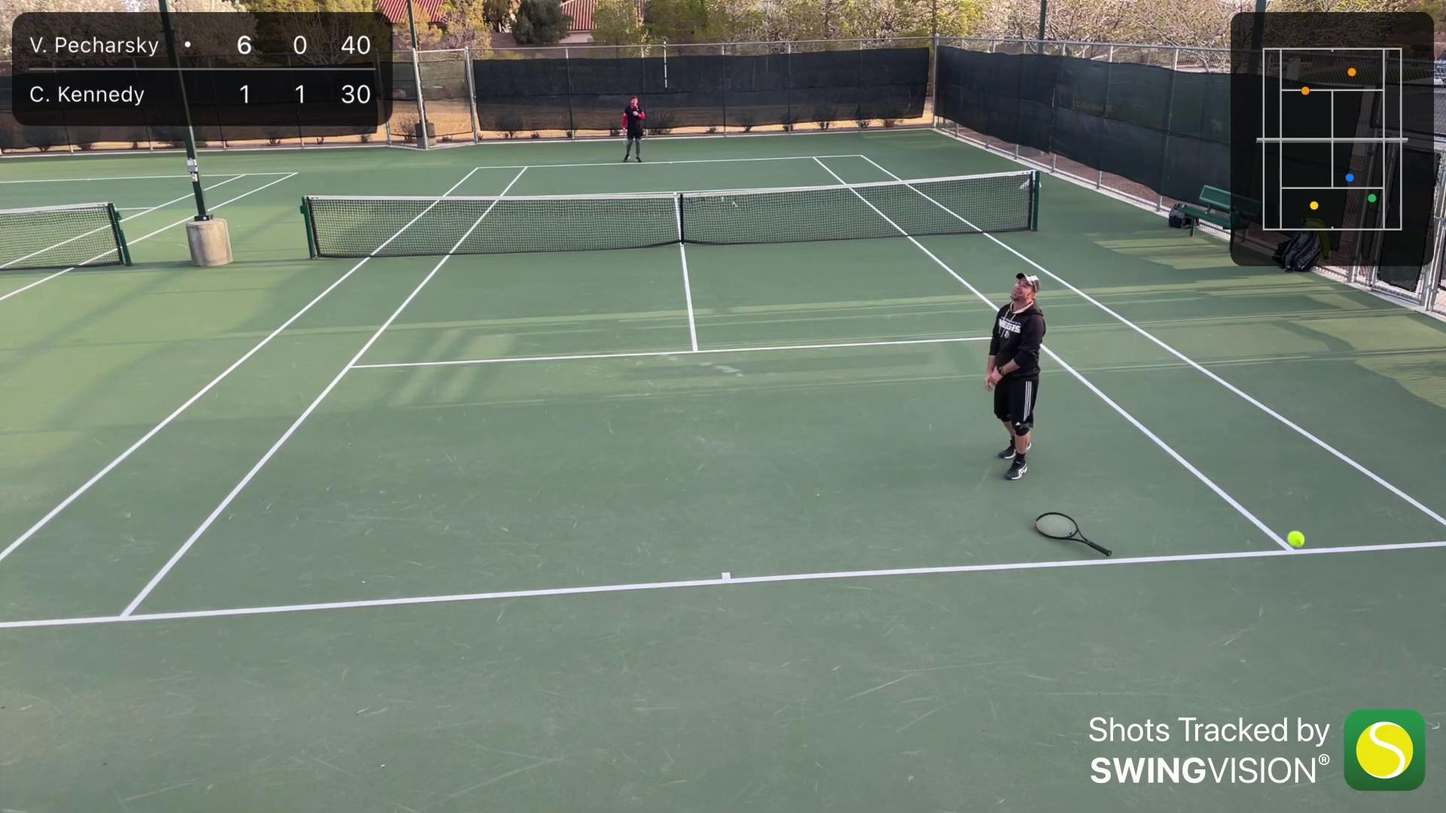ball: (1282, 527, 1311, 547)
